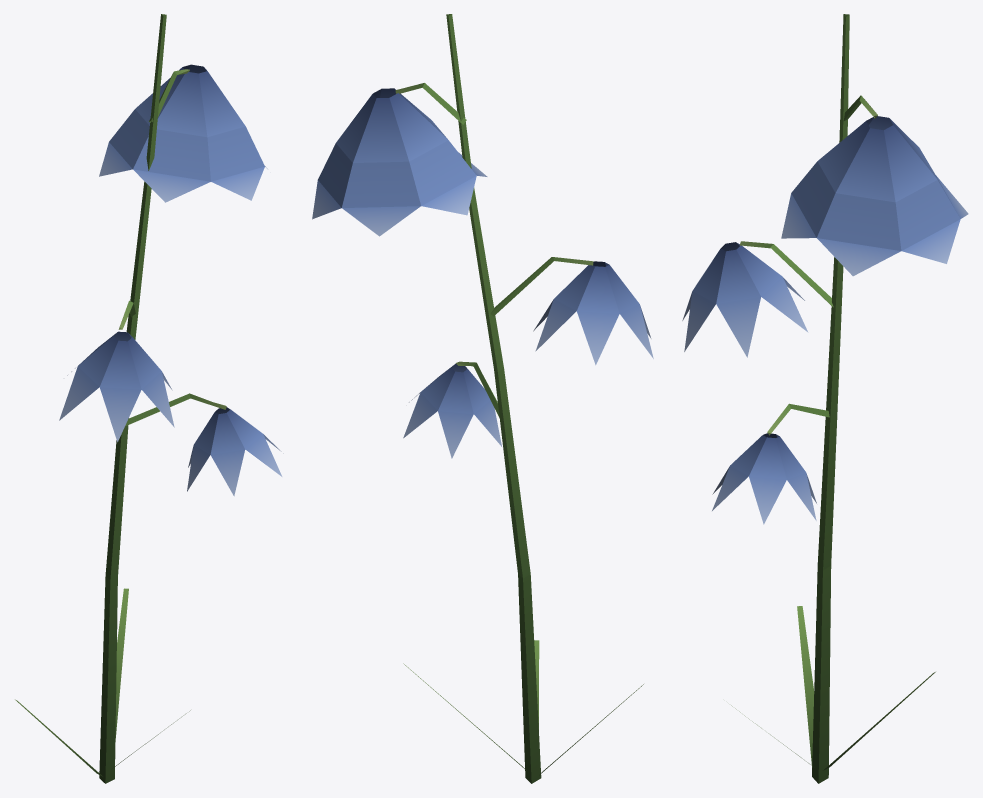
Rendered from flower-harebell.BACKUP.glb.
3 renders of one model, left to right at view 1: azimuth 30°, elevation 25°; view 2: azimuth 150°, elevation 25°; view 3: azimuth 270°, elevation 25°, orthographic. The views are drawn at different scales.
Parts seen in each view (by area): view 1: harebell; view 2: harebell; view 3: harebell.
Part boxes in pixels (x1,y1,x2,y2): harebell: (15,14,283,783); harebell: (312,14,653,783); harebell: (682,14,968,783).
Size of the model in its own units: 2.5 by 6.3 by 2.04.
